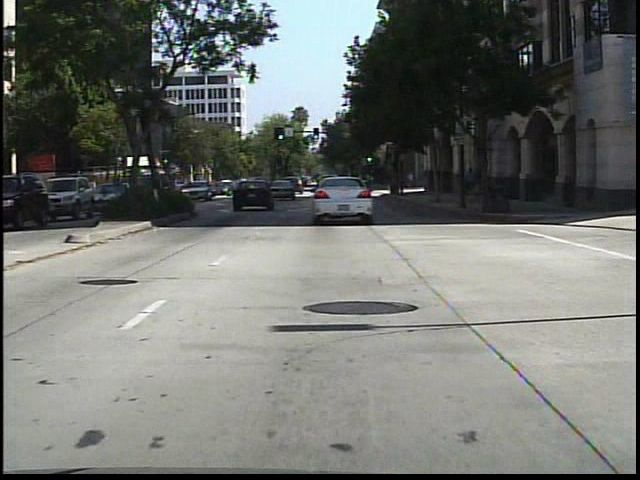person: (464, 163, 483, 206)
